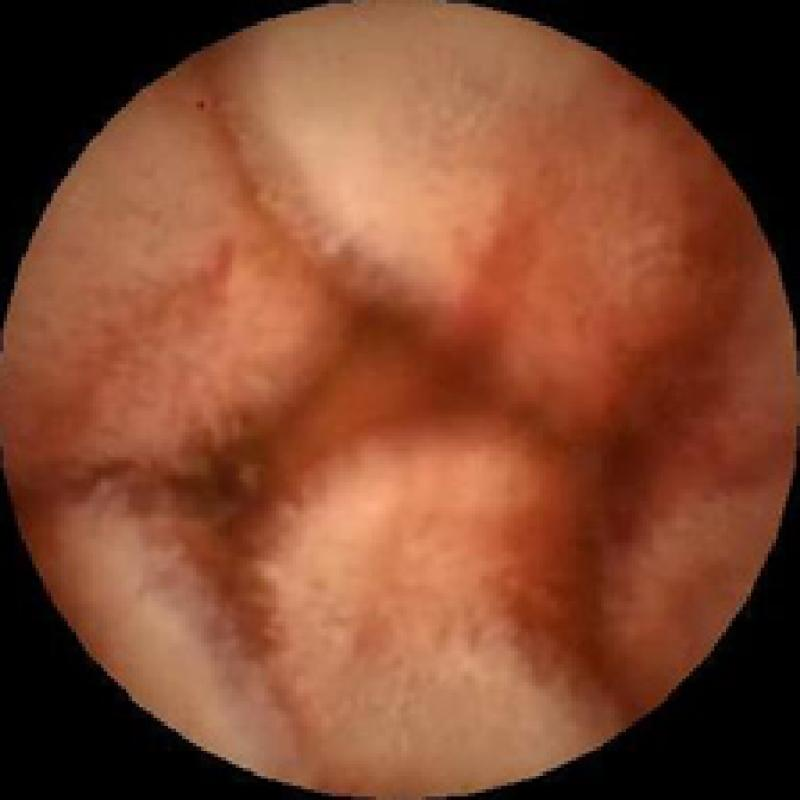bleeding: (157, 79, 647, 672)
